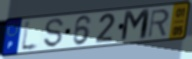2: (94, 12, 117, 46)
6: (73, 14, 93, 47)
L: (19, 18, 40, 53)
M: (119, 8, 152, 44)
R: (147, 8, 171, 39)
S: (43, 18, 65, 49)
